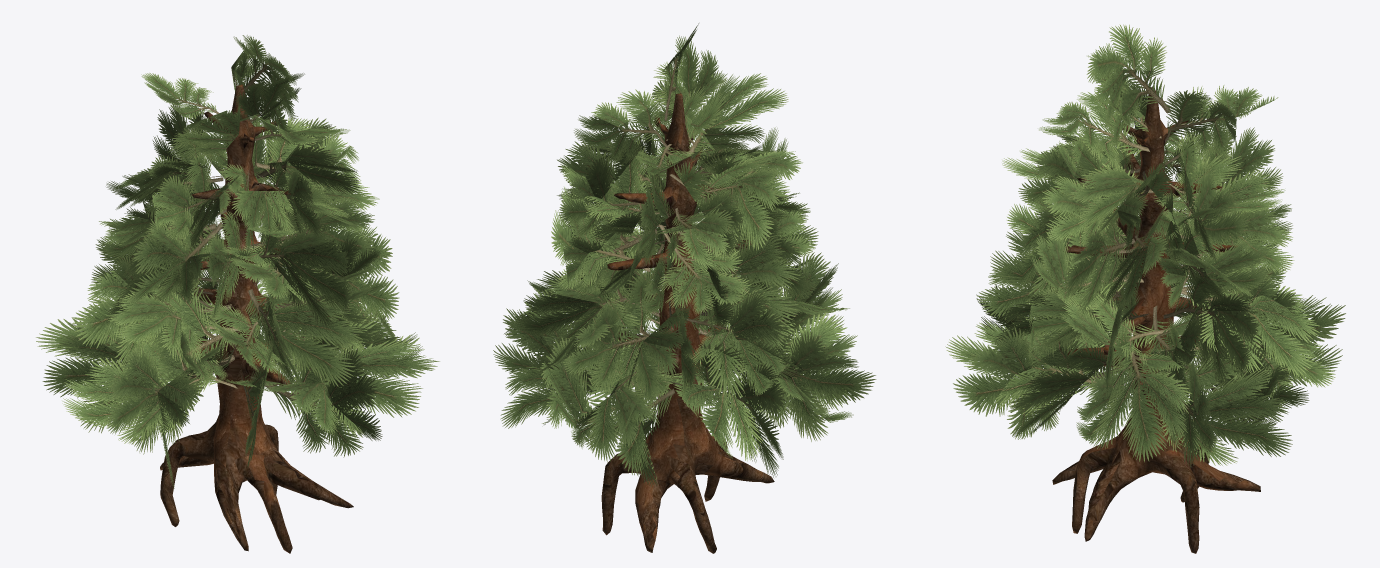
The model's file is Tree04.glb.
The picture shows the model from 3 angles, left to right: view 1: azimuth 30°, elevation 25°; view 2: azimuth 150°, elevation 25°; view 3: azimuth 270°, elevation 25°; orthographic projection.
Parts seen in each view (by area): view 1: tree04.LOD0; view 2: tree04.LOD0; view 3: tree04.LOD0.
Part boxes in pixels (x1=…): tree04.LOD0: x1=36, y1=35, x2=439, y2=553; tree04.LOD0: x1=493, y1=23, x2=876, y2=553; tree04.LOD0: x1=945, y1=24, x2=1345, y2=553.
Size of what is drawn, in the model's own units: 4.66 by 6.13 by 4.84.
Materials: 2 (2 with a texture image).
